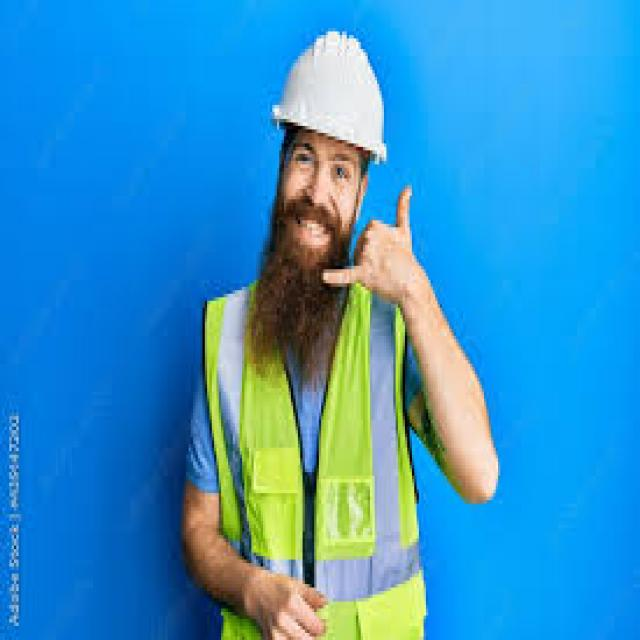Reflective-Jacket: (193, 273, 433, 633)
Safety-Helmet: (270, 24, 391, 164)
